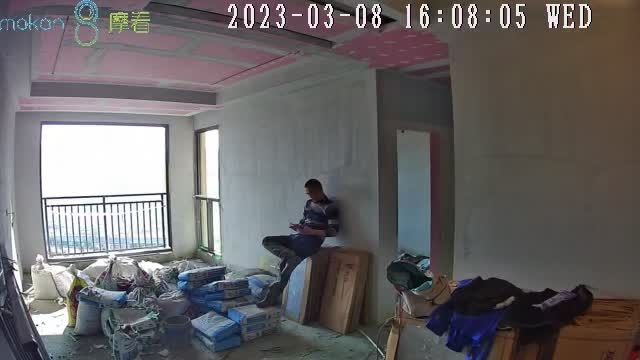people: (253, 179, 338, 308)
window: (41, 122, 172, 253), (195, 131, 221, 256)
